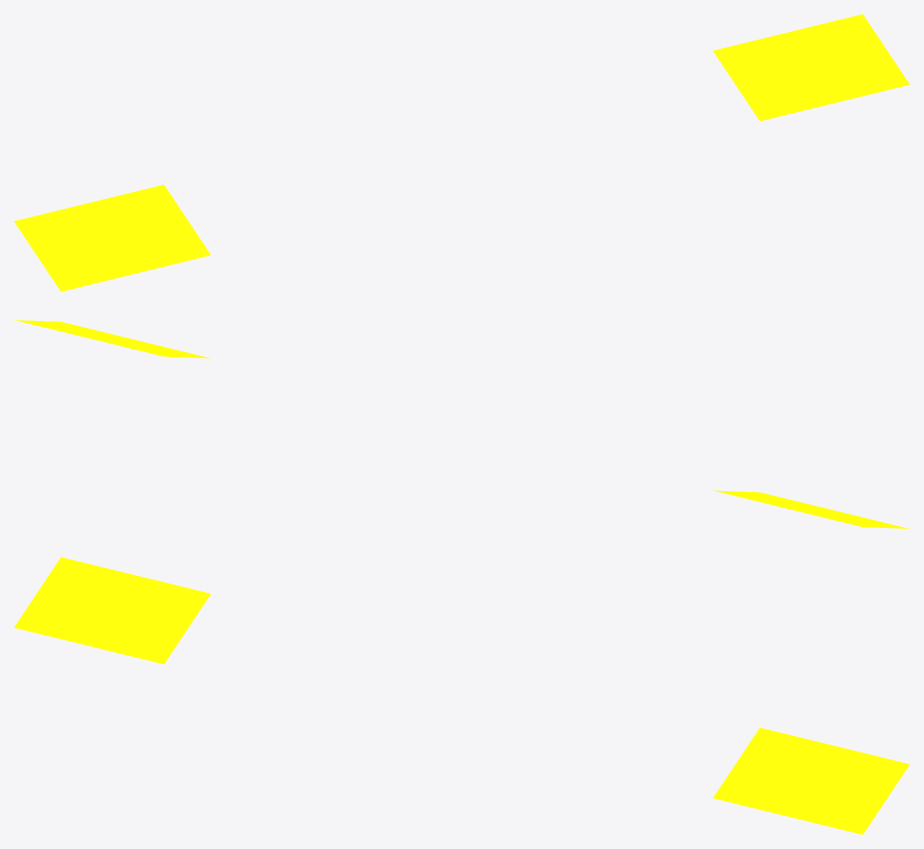
Rendered from Light.glb.
3 views of the same model, one above another, from view 1: azimuth 30°, elevation 25°; view 2: azimuth 150°, elevation 25°; view 3: azimuth 330°, elevation 25° (orthographic).
Visible parts, largest first — view 1: Light; view 2: Light; view 3: Light.
Part boxes in pixels (bbox=[...]): Light: bbox=[14, 14, 909, 291]; Light: bbox=[14, 320, 909, 528]; Light: bbox=[14, 557, 909, 834].
Bounding box in the file's own units: 0.2308 × 0.0094 × 0.0222.
